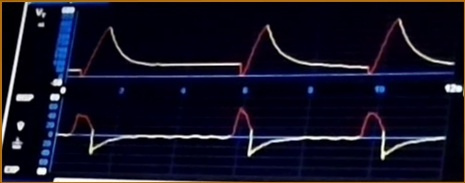Flow: (62, 104, 445, 170)
Leakage Volume: (74, 17, 454, 84)
